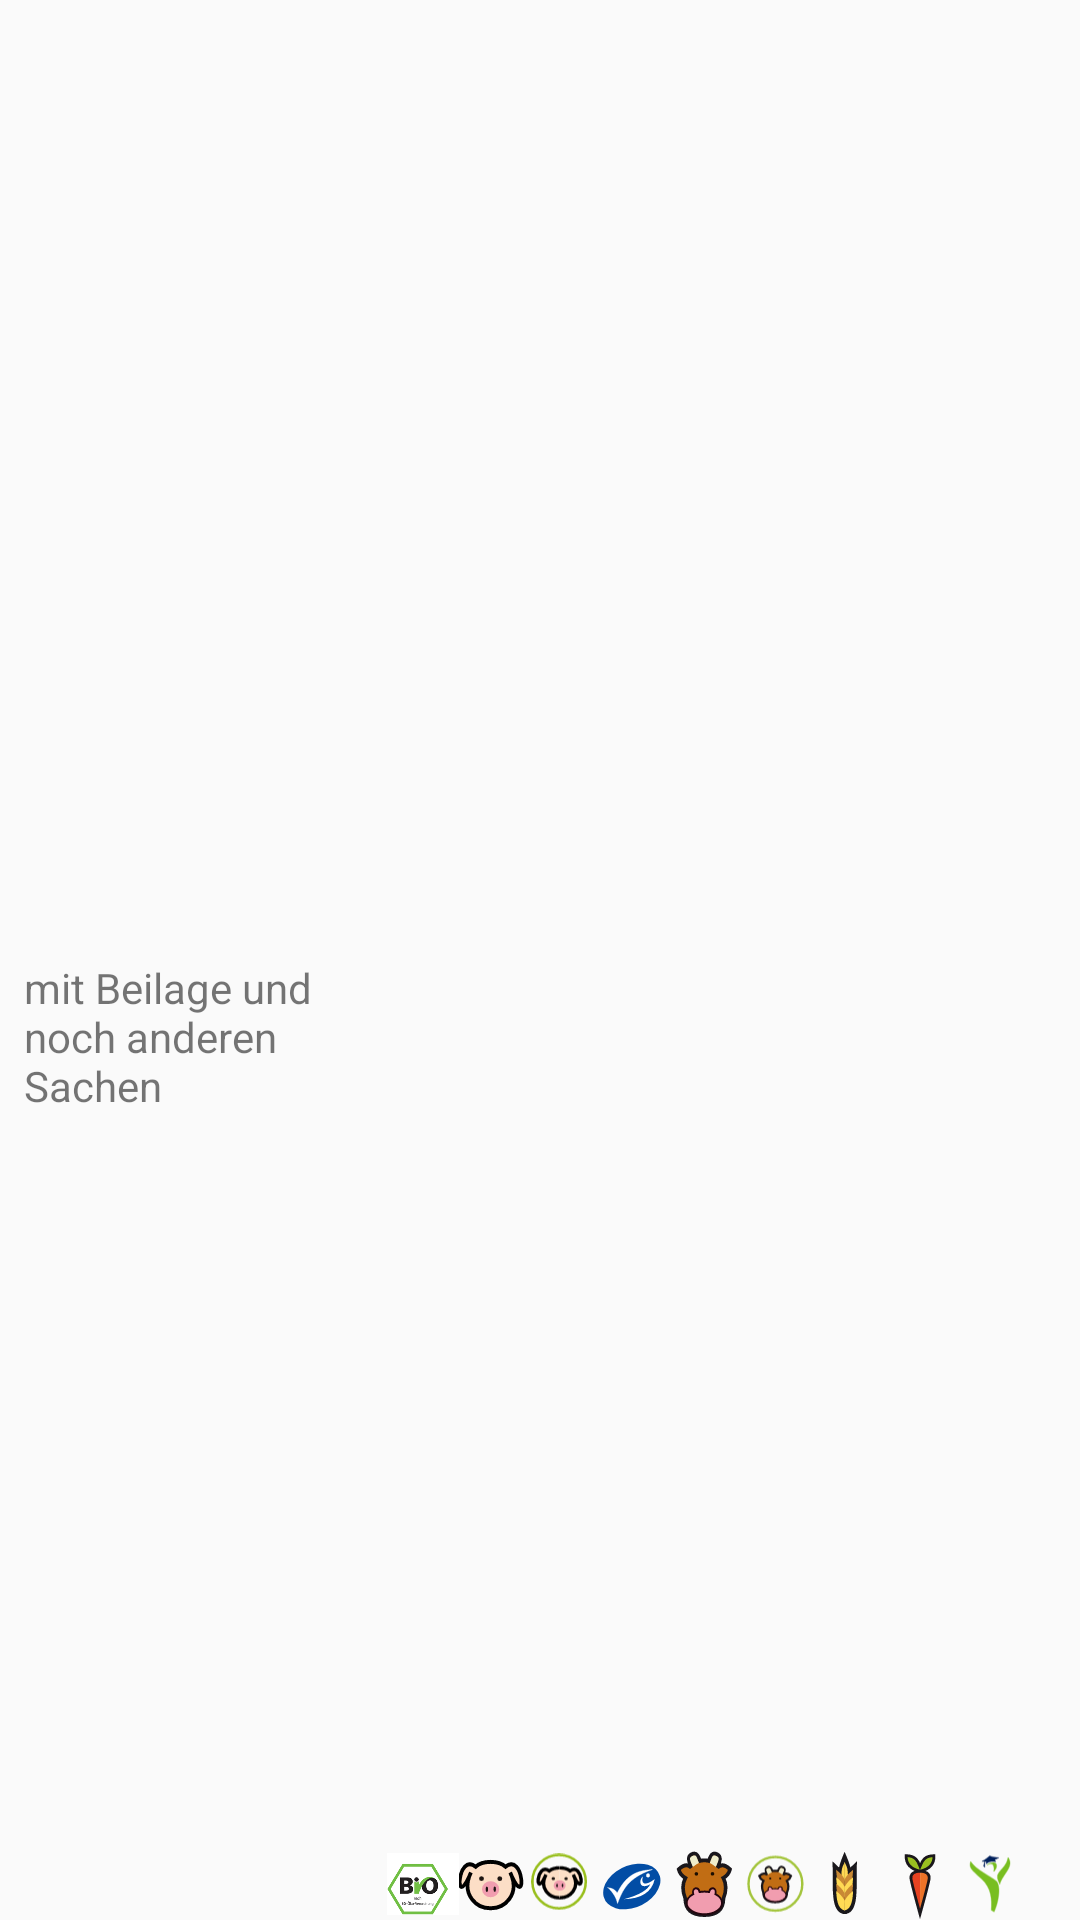

Icon click points for this 1080px x 1920px phone screenshot, format (x,y):
pig: (559,1881), (491,1885)
rind: (704,1884), (775,1884)
vegetarian: (920,1886)
